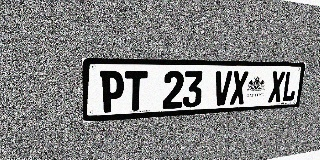2: (163, 71, 184, 109)
3: (182, 71, 203, 108)
L: (281, 71, 298, 102)
P: (100, 71, 124, 113)
T: (124, 71, 147, 111)
V: (213, 71, 232, 106)
X: (229, 71, 249, 105), (268, 71, 285, 103)
